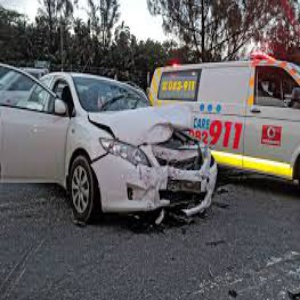bonnet: (110, 102, 195, 141)
bumper: (132, 163, 218, 219)
